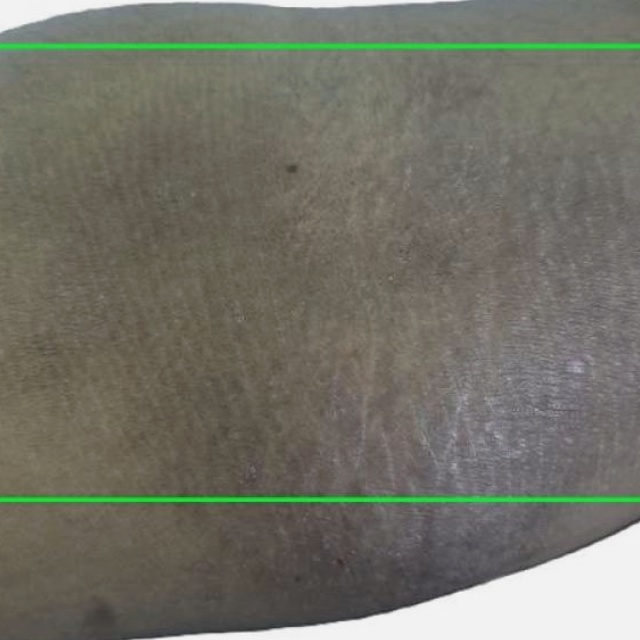Contact Dermatitis: (0, 499, 639, 639)
